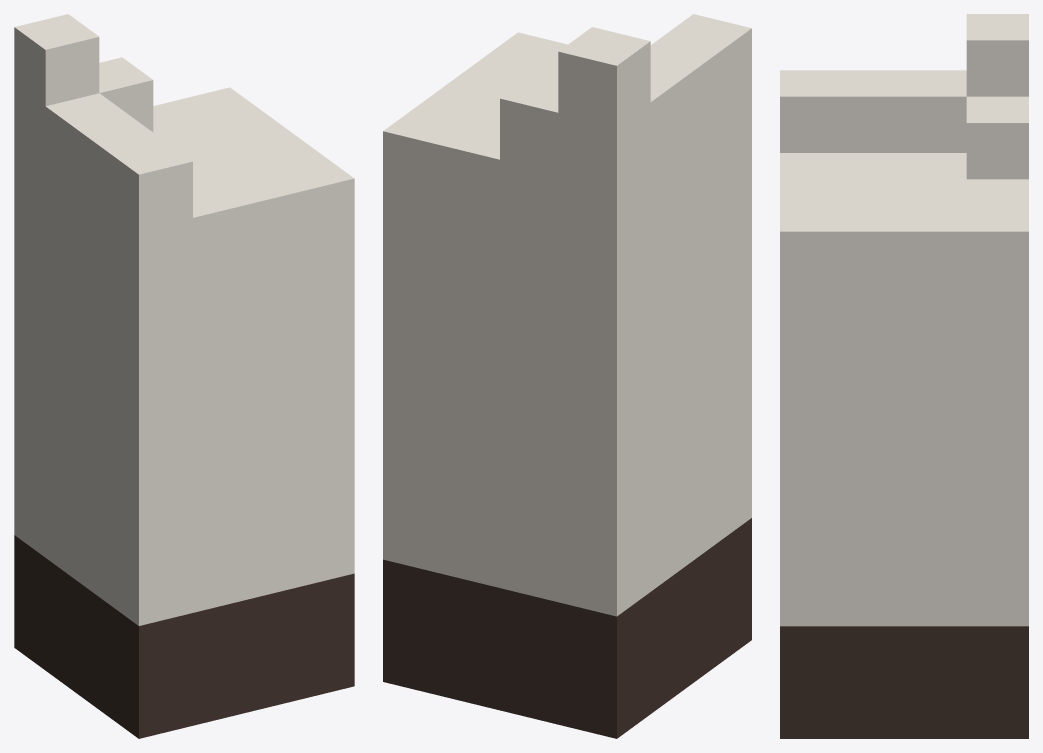
Rendered from cow__leg_br.glb.
The picture shows the model from 3 angles, left to right: view 1: azimuth 30°, elevation 25°; view 2: azimuth 150°, elevation 25°; view 3: azimuth 270°, elevation 25°; orthographic projection. The views are drawn at different scales.
Visible parts, largest first — view 1: cow__leg_br; view 2: cow__leg_br; view 3: cow__leg_br.
Boxes of the visible parts, <box> form: cow__leg_br: <box>14,14,354,738</box>; cow__leg_br: <box>383,14,751,738</box>; cow__leg_br: <box>780,14,1028,738</box>.
Size of the model in its own units: 0.4 by 1.1 by 0.4.
Materials: 1 (1 with a texture image).
